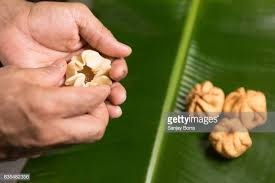modak: (224, 80, 268, 129), (212, 118, 255, 159), (186, 78, 219, 115)
